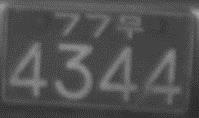3: (53, 42, 95, 101)
4: (97, 46, 139, 102), (8, 42, 49, 99), (143, 47, 181, 106)
7: (84, 11, 111, 38), (53, 11, 81, 36)
무: (114, 13, 144, 40)
